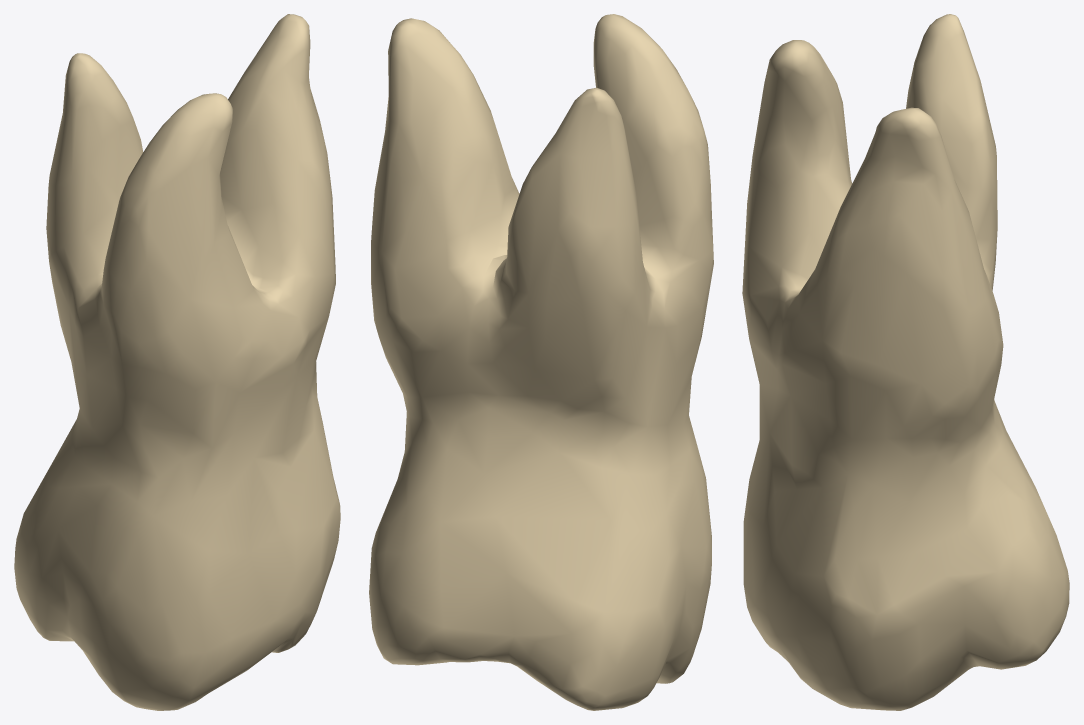
Rendered from tooth-16.glb.
The picture shows the model from 3 angles, left to right: view 1: azimuth 30°, elevation 25°; view 2: azimuth 150°, elevation 25°; view 3: azimuth 270°, elevation 25°; orthographic projection. The views are drawn at different scales.
Visible parts, largest first — view 1: tooth-16; view 2: tooth-16; view 3: tooth-16.
Boxes of the visible parts, x1,y1,x2,y2 form: tooth-16: (14, 14, 340, 710); tooth-16: (369, 14, 713, 710); tooth-16: (742, 14, 1069, 710).
Size of the model in its own units: 0.289 by 0.6138 by 0.2875.
